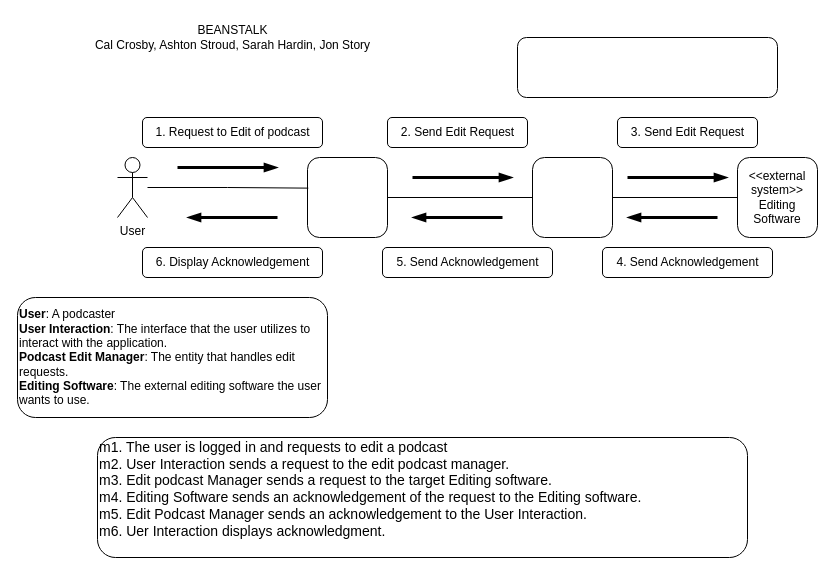
Image size: 835x575. Some labels were removed from this diagram. Each missing label, with the box of its shape:
<<entity>> Podcast Edit Manager: (532, 156, 612, 238)
<<user interaction>> User Interaction: (306, 156, 388, 238)
Edit Podcast Interaction Diagram: (516, 36, 778, 98)
